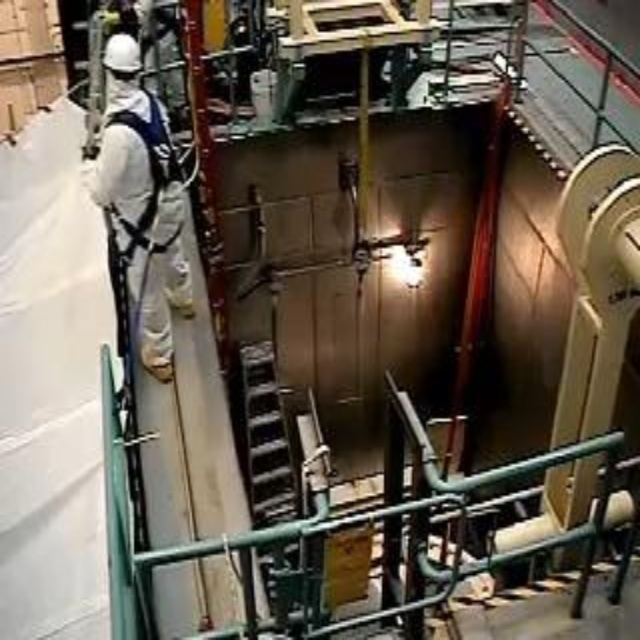Arnes_seguridad: (96, 104, 198, 255)
